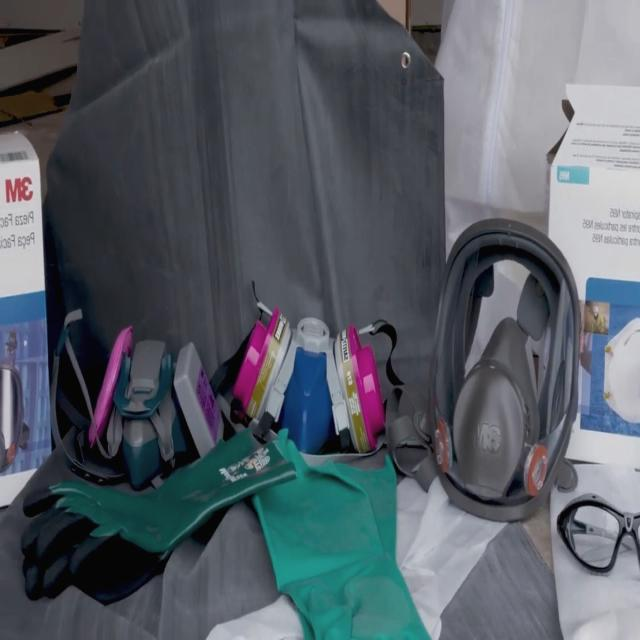Gloves: (254, 428, 436, 640), (21, 424, 297, 560), (298, 451, 399, 640), (22, 545, 166, 606)
Mask: (432, 215, 580, 522), (231, 306, 382, 455), (90, 322, 225, 478)
